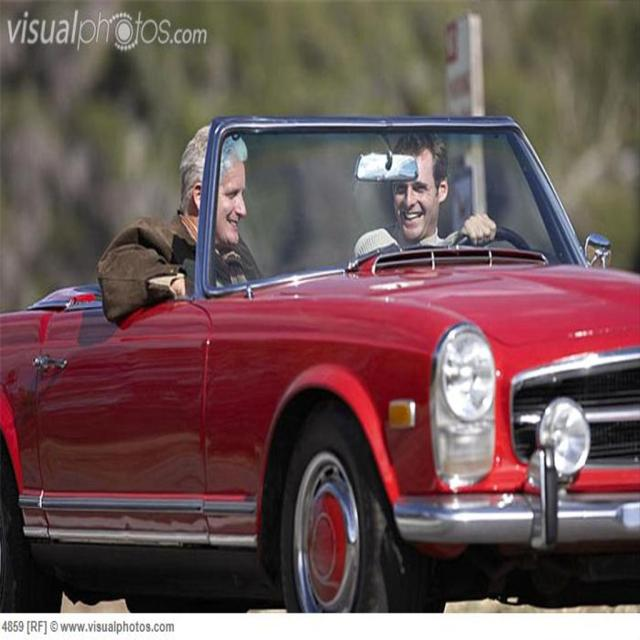Face: (385, 140, 451, 247), (208, 153, 252, 247)
